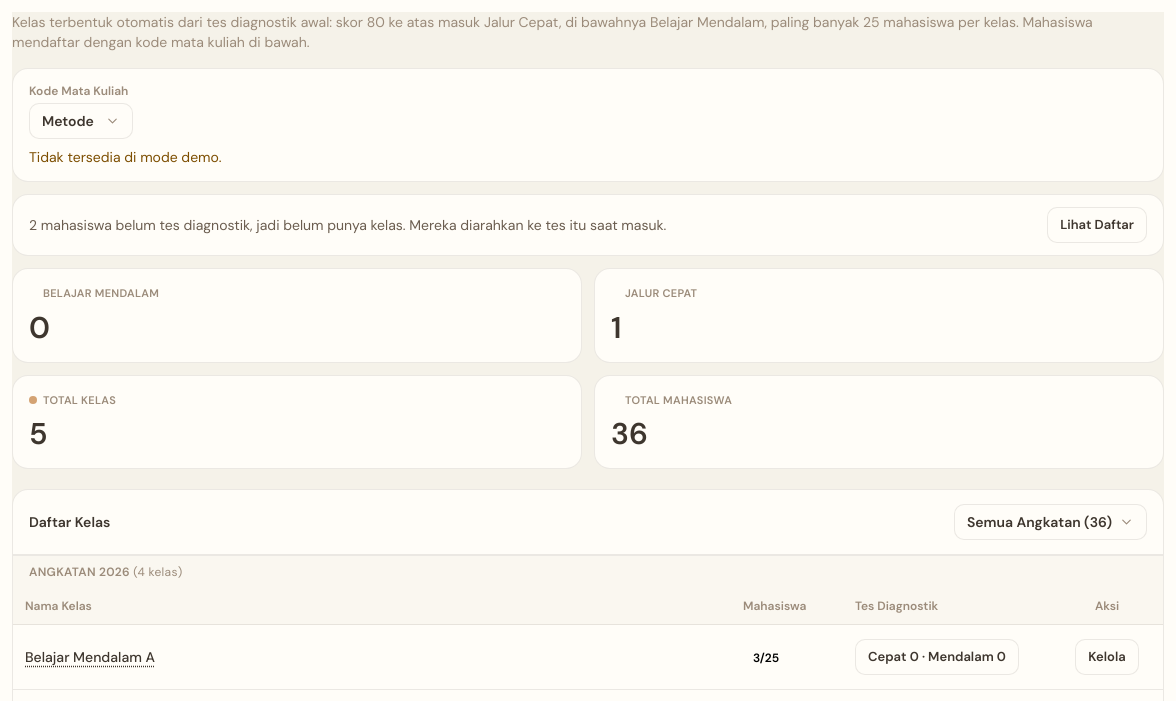
Test: KelasPanel (antrean #228) › daftar belum tes dibuka dalam modal tanpa tombol pindah
The image size is (1176, 701).
Click the button "Lihat Daftar".
click(1097, 225)  # box 1047,207 -> 1147,243
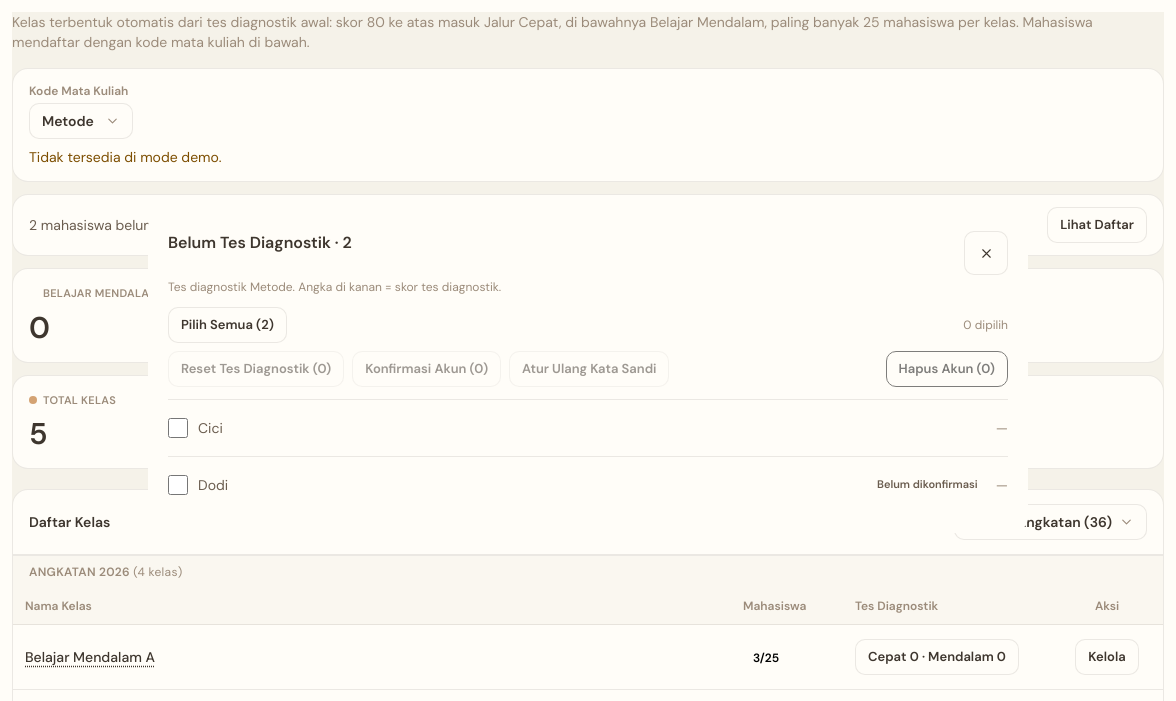
Now the heading "Belum Tes Diagnostik · 2" is shown, box 168,231 -> 352,255
Now the text "Dodi" is shown, box 198,475 -> 228,495
